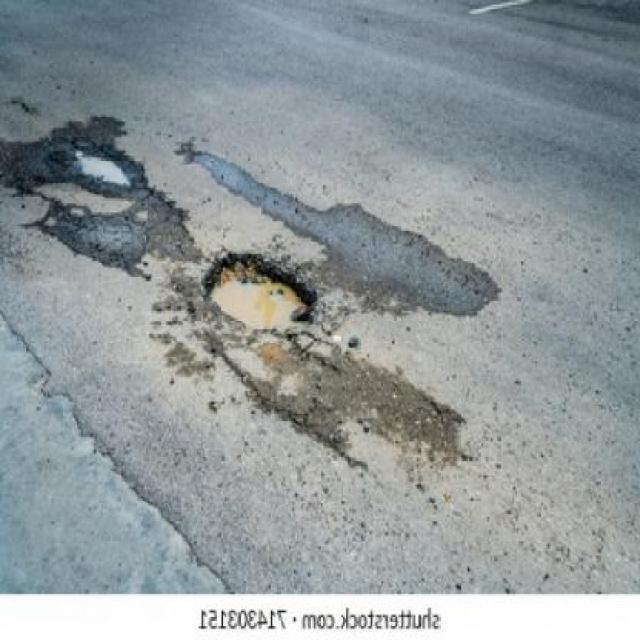Pothole: (202, 252, 318, 331)
